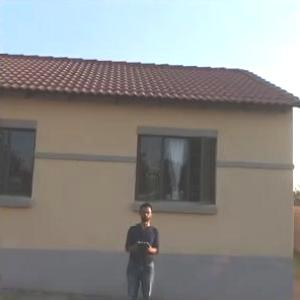follow: (122, 197, 163, 299)
